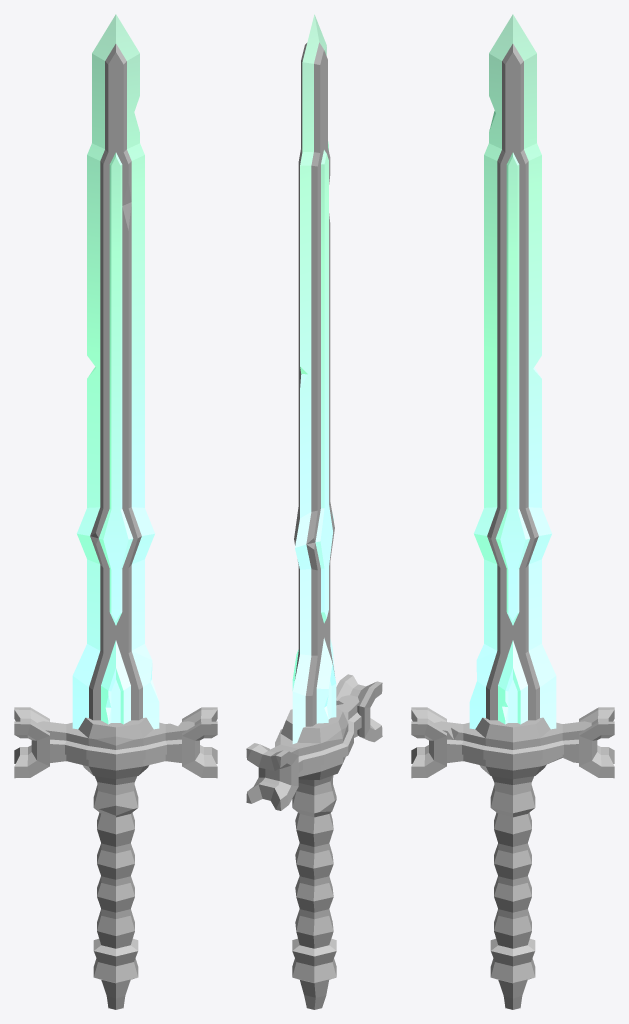
Rendered from SM_Wep_Sword_02.fbx.
3 views of the same model, side by side, from view 1: azimuth 90°, elevation 25°; view 2: azimuth 150°, elevation 25°; view 3: azimuth 270°, elevation 25° (orthographic).
Visible parts, largest first — view 1: SM_Wep_Sword_02; view 2: SM_Wep_Sword_02; view 3: SM_Wep_Sword_02.
Part boxes in pixels (x1,y1,x2,y2): SM_Wep_Sword_02: (14,14,217,1009); SM_Wep_Sword_02: (246,14,382,1009); SM_Wep_Sword_02: (411,14,614,1009).
Size of the model in its own units: 10.78 by 152 by 28.21.
